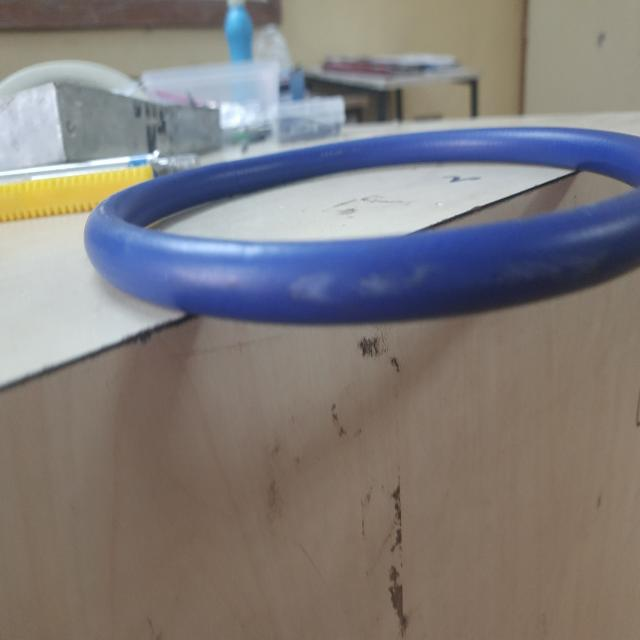daire: (94, 123, 640, 330)
